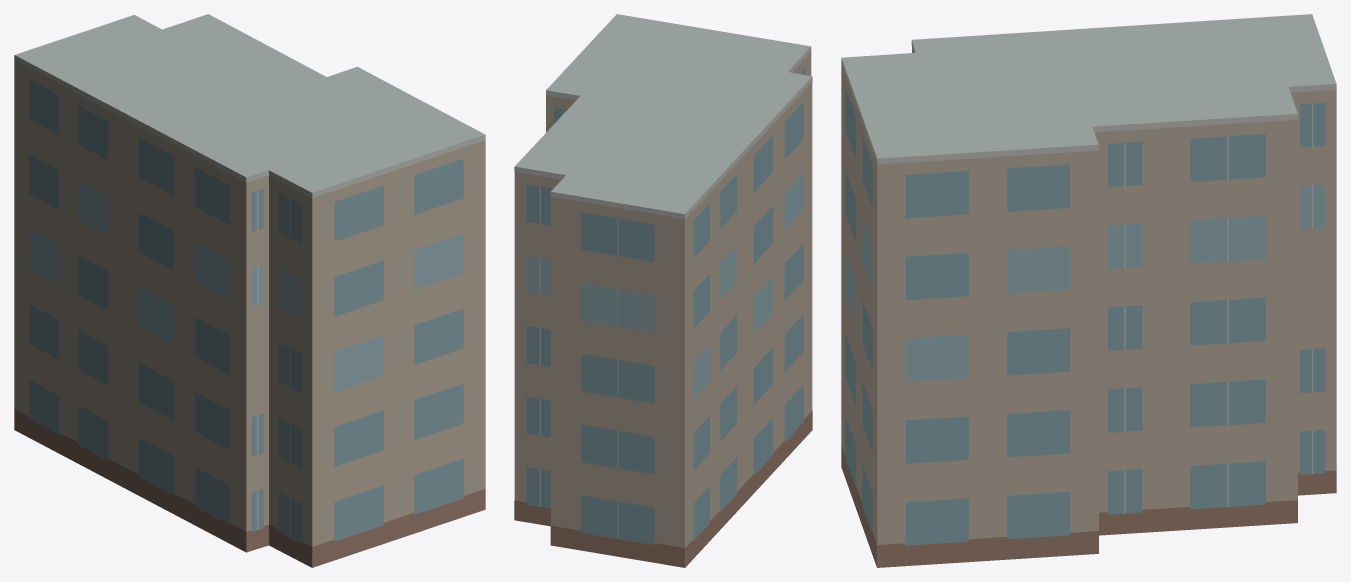
Rendered from survey-upis-33007070.glb.
3 views of the same model, side by side, from view 1: azimuth 30°, elevation 25°; view 2: azimuth 150°, elevation 25°; view 3: azimuth 270°, elevation 25° (orthographic). The views are drawn at different scales.
Visible parts, largest first — view 1: survey-upis-33007070.tmp; view 2: survey-upis-33007070.tmp; view 3: survey-upis-33007070.tmp.
Boxes of the visible parts, x1,y1,x2,y2 form: survey-upis-33007070.tmp: (14,14,485,567); survey-upis-33007070.tmp: (514,14,812,567); survey-upis-33007070.tmp: (841,14,1336,567).
Bounding box in the file's own units: 12.75 × 16.8 × 18.44.
